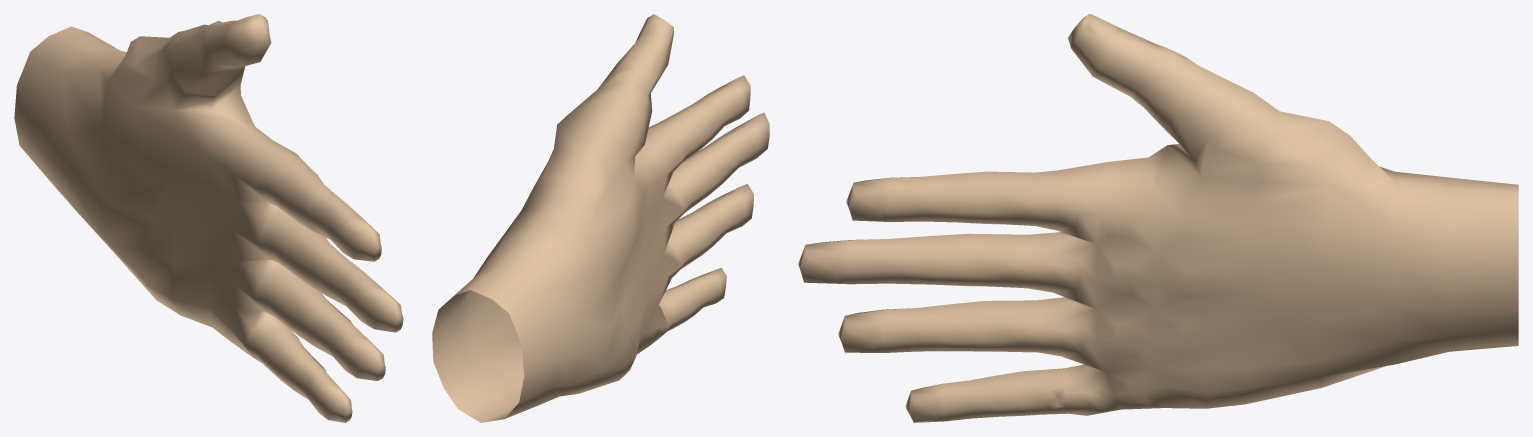
Rendered from left-hand-obj.obj.
The picture shows the model from 3 angles, left to right: view 1: azimuth 30°, elevation 25°; view 2: azimuth 150°, elevation 25°; view 3: azimuth 270°, elevation 25°; orthographic projection. The views are drawn at different scales.
Parts seen in each view (by area): view 1: polySurface8; view 2: polySurface8; view 3: polySurface8.
Boxes of the visible parts, bbox=[...] form: polySurface8: bbox=[14, 14, 403, 422]; polySurface8: bbox=[432, 14, 769, 422]; polySurface8: bbox=[798, 14, 1518, 422].
Size of the model in its own units: 0.0569 by 0.1707 by 0.2791.
